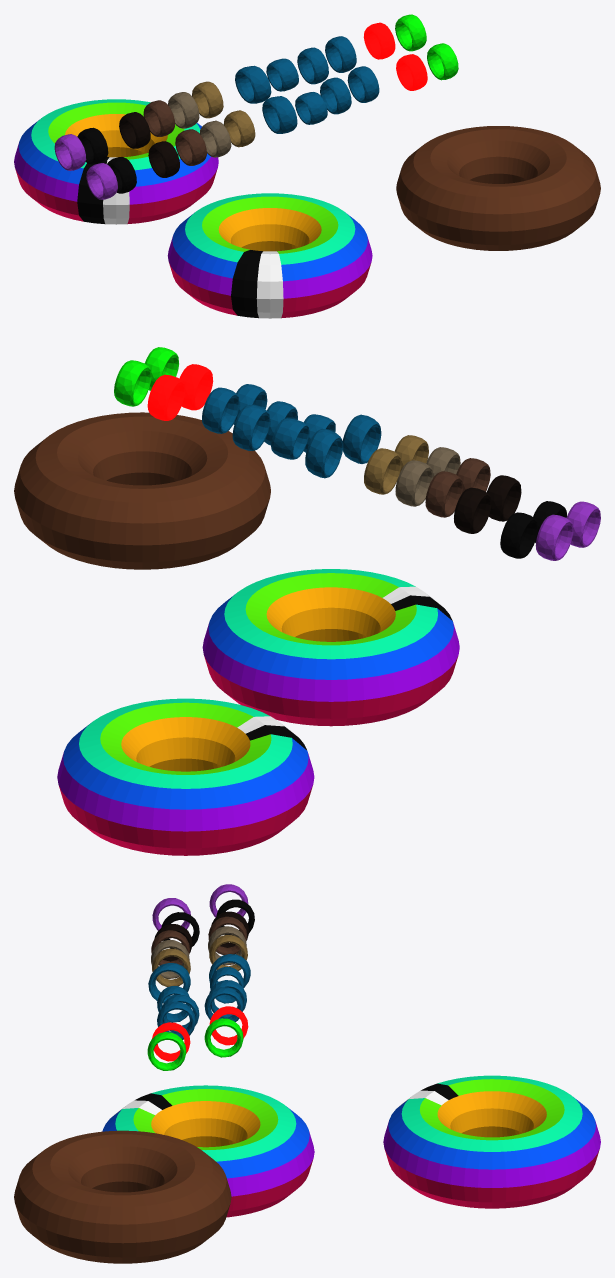
The model's file is rings.glb.
3 renders of one model, top to bottom at view 1: azimuth 30°, elevation 25°; view 2: azimuth 150°, elevation 25°; view 3: azimuth 270°, elevation 25°, orthographic. The views are drawn at different scales.
Parts seen in each view (by area): view 1: Torus.001, Torus.003, Torus.002, gold ring.024, gold ring.003, gold ring, gold ring.032, gold ring.029, gold ring.033, gold ring.001, gold ring.008, gold ring.014 (+15 smaller); view 2: Torus.002, Torus.001, Torus.003, gold ring.003, gold ring.024, gold ring.015, gold ring.029, gold ring.018, gold ring.001, gold ring.014, gold ring.021, gold ring.032 (+12 smaller); view 3: Torus.002, Torus.003, Torus.001, gold ring.029, gold ring.028, gold ring.003, gold ring.010, gold ring.032, gold ring.033, gold ring.016, gold ring.004, gold ring.018 (+5 smaller).
Boxes of the visible parts, bbox=[...] form: Torus.001: bbox=[167, 193, 372, 318]; Torus.003: bbox=[396, 126, 600, 250]; Torus.002: bbox=[14, 99, 218, 224]; gold ring.024: bbox=[235, 65, 271, 103]; gold ring.003: bbox=[262, 96, 297, 133]; gold ring: bbox=[297, 47, 328, 84]; gold ring.032: bbox=[363, 22, 395, 59]; gold ring.029: bbox=[395, 14, 426, 51]; gold ring.033: bbox=[396, 54, 427, 90]; gold ring.001: bbox=[325, 36, 356, 72]; gold ring.008: bbox=[175, 129, 206, 165]; gold ring.014: bbox=[119, 112, 150, 148]; Torus.002: bbox=[57, 698, 314, 855]; Torus.001: bbox=[202, 569, 459, 726]; Torus.003: bbox=[14, 412, 270, 569]; gold ring.003: bbox=[342, 414, 381, 463]; gold ring.024: bbox=[305, 429, 342, 478]; gold ring.015: bbox=[500, 512, 537, 558]; gold ring.029: bbox=[114, 360, 151, 406]; gold ring.018: bbox=[364, 448, 401, 494]; gold ring.001: bbox=[202, 387, 239, 433]; gold ring.014: bbox=[454, 487, 491, 533]; gold ring.021: bbox=[535, 514, 573, 560]; gold ring.032: bbox=[147, 374, 185, 420]; Torus.002: bbox=[383, 1075, 600, 1208]; Torus.003: bbox=[14, 1130, 231, 1263]; Torus.001: bbox=[102, 1085, 314, 1217]; gold ring.029: bbox=[204, 1018, 243, 1057]; gold ring.028: bbox=[147, 1032, 186, 1070]; gold ring.003: bbox=[148, 963, 190, 1003]; gold ring.010: bbox=[152, 948, 190, 986]; gold ring.032: bbox=[209, 1006, 248, 1045]; gold ring.033: bbox=[152, 1022, 190, 1061]; gold ring.016: bbox=[208, 916, 247, 955]; gold ring.004: bbox=[157, 1001, 195, 1039]; gold ring.018: bbox=[209, 935, 247, 970].
Size of the model in its own units: 3.84 by 1.75 by 3.86.
2 materials, 2 textured.
